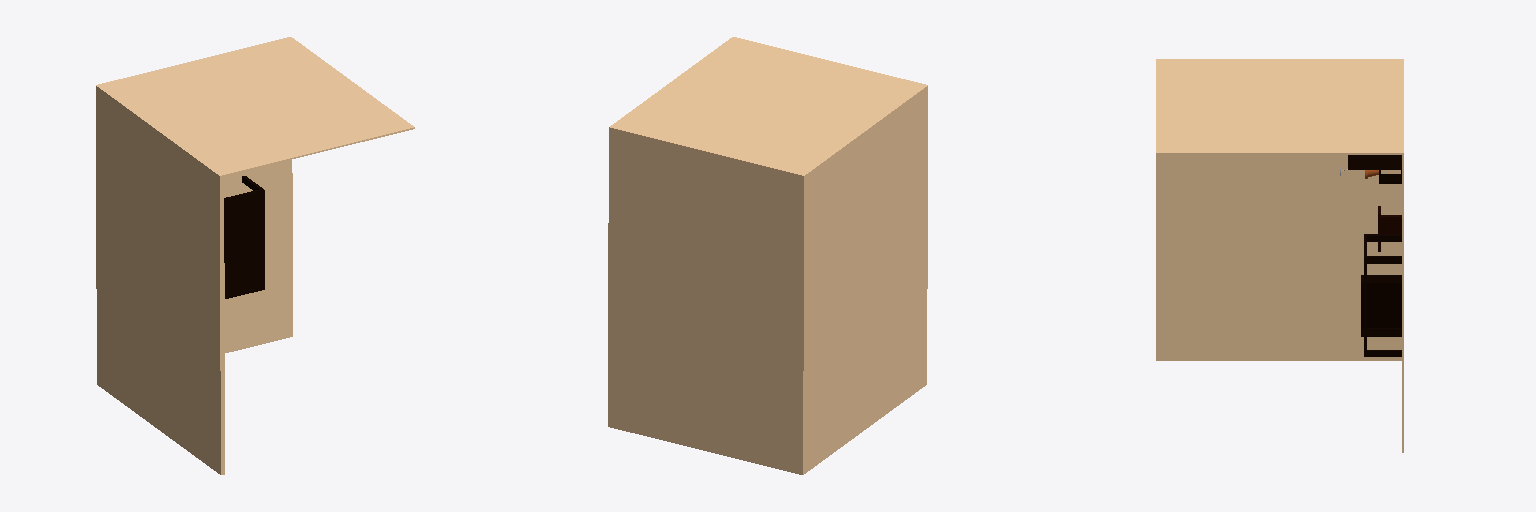
Rendered from wall.obj.
3 views of the same model, side by side, from view 1: azimuth 30°, elevation 25°; view 2: azimuth 150°, elevation 25°; view 3: azimuth 270°, elevation 25° (orthographic).
Visible parts, largest first — view 1: wall_Flower_pot; view 2: wall_Flower_pot; view 3: wall_Flower_pot.
Boxes of the visible parts, x1=… form: wall_Flower_pot: x1=96, y1=37, x2=414, y2=474; wall_Flower_pot: x1=608, y1=37, x2=927, y2=474; wall_Flower_pot: x1=1156, y1=59, x2=1403, y2=452.
Size of the model in its own units: 419 by 612 by 457.